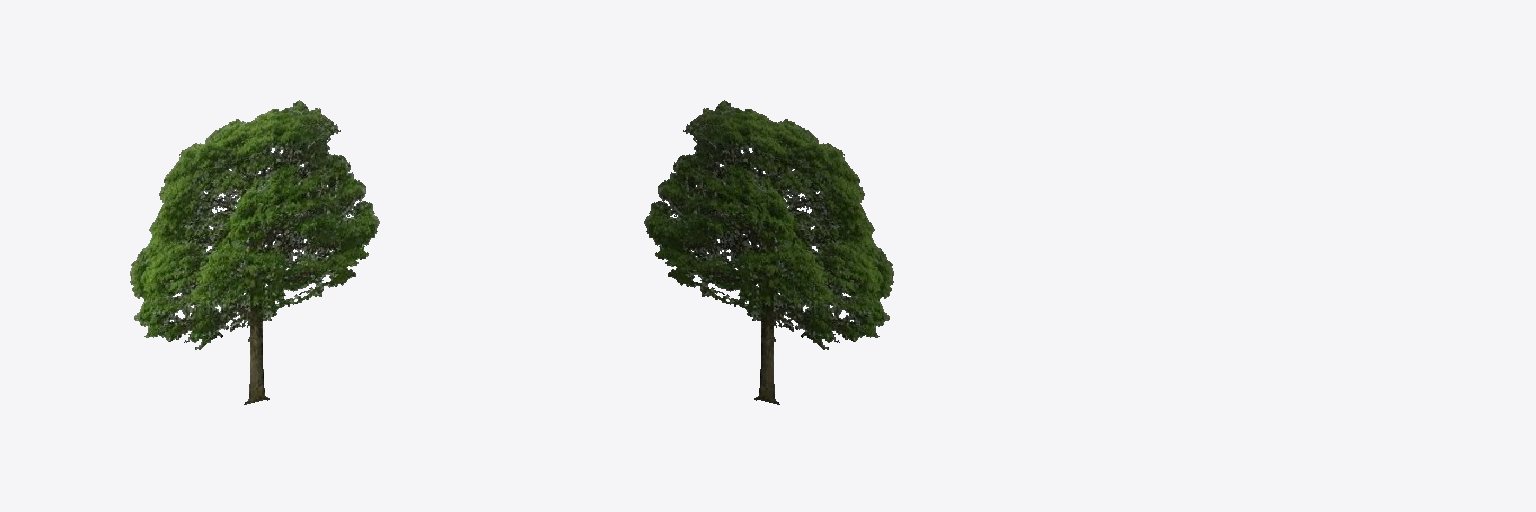
The picture shows the model from 3 angles: view 1: azimuth 30°, elevation 25°; view 2: azimuth 150°, elevation 25°; view 3: azimuth 270°, elevation 25°; orthographic projection.
Parts seen in each view (by area): view 1: Plane; view 2: Plane; view 3: none.
Part boxes in pixels (left/top/right/bottom): Plane: left=130, top=100, right=379, bottom=404; Plane: left=644, top=100, right=893, bottom=404.
Size of the model in its own units: 3.02 by 3.02 by 0.
1 materials, 1 textured.